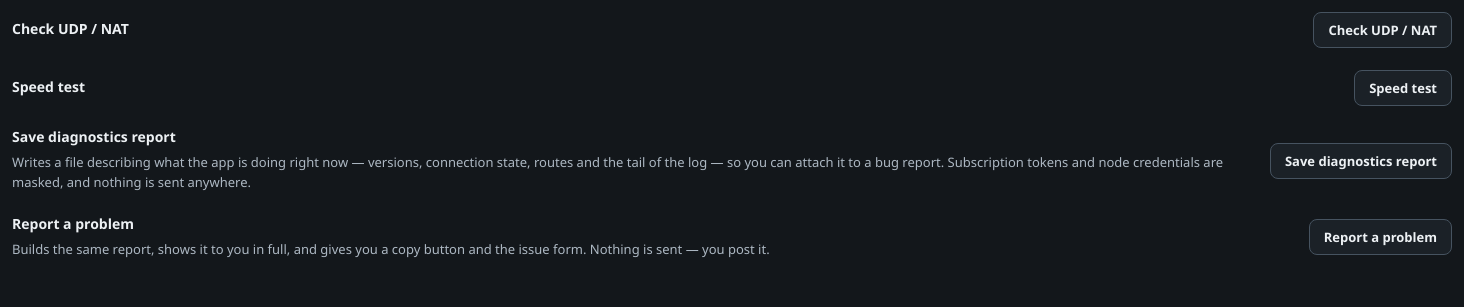
DiagnosticsPanel › speed test › surfaces a speed-test failure as an alert
Click the button "Speed test": click(1403, 88) [1354,70,1452,106]
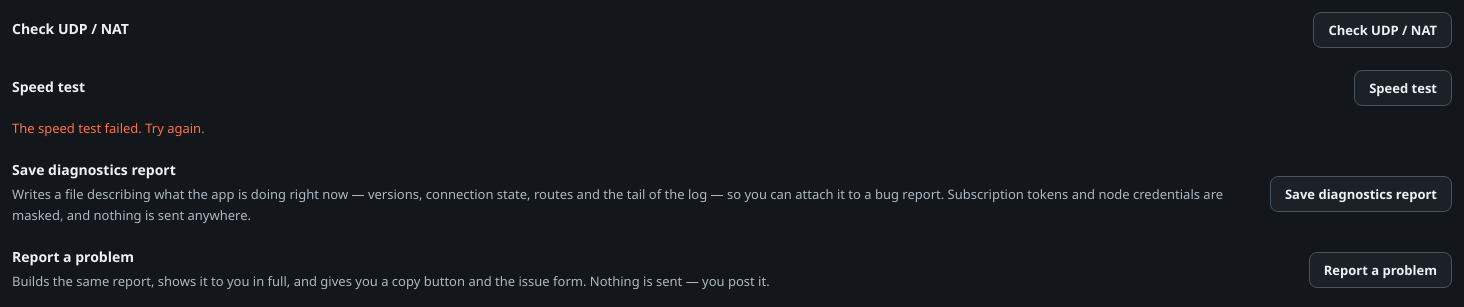
Result: the message shows "The speed test failed" at [12,119,205,137]
